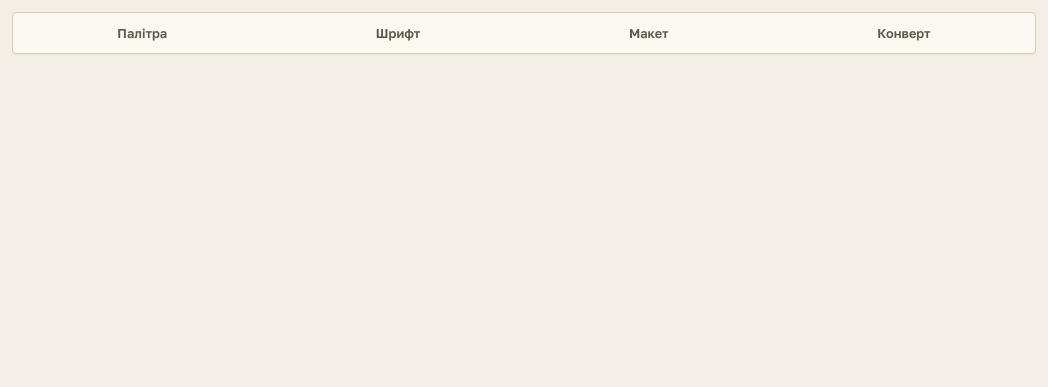
DesignToolbar tabs (adr-019 §7.3) › shows the envelope guests open, with the hosts' seal, and no input
Click the button "Конверт".
click(904, 33)  # box [773,13,1035,53]
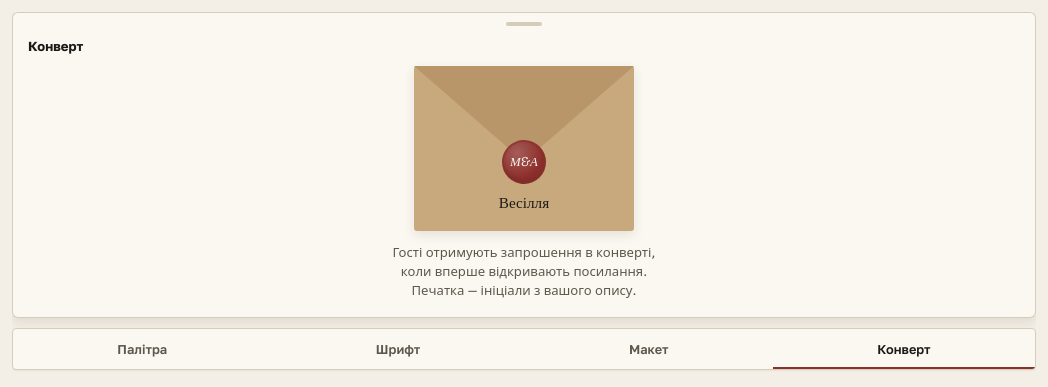
Result: the text with class "cc-env-to" reads "Весілля" at [499,190,549,213]
Result: the text with class "seal" reads "М&А" at [510,151,538,170]
